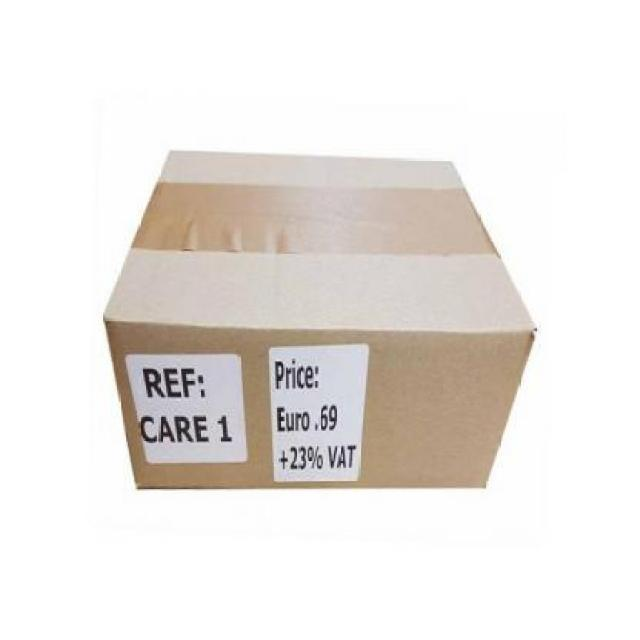box: (103, 150, 535, 498)
